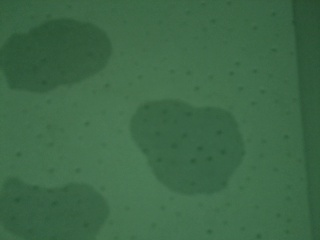Water_detected: (130, 103, 213, 186), (23, 23, 95, 79), (36, 195, 91, 235)
